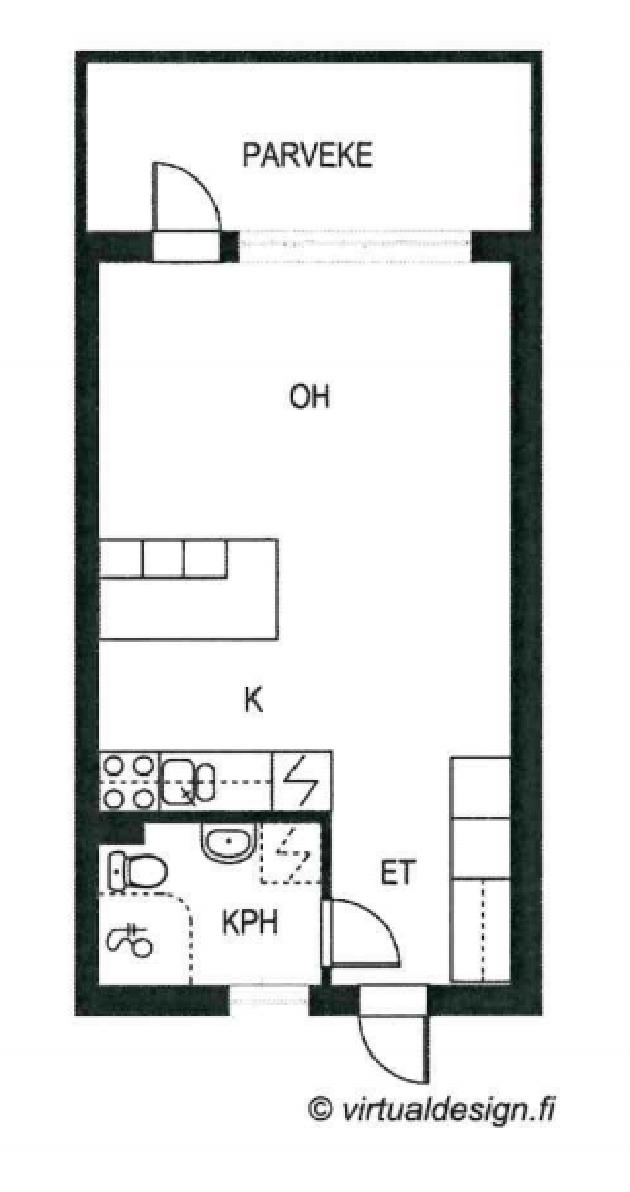door: (150, 150, 230, 276), (353, 976, 439, 1086), (315, 899, 408, 971)
window: (233, 230, 478, 267), (227, 980, 311, 1010)
zone: (103, 268, 506, 986), (90, 63, 527, 228), (101, 824, 322, 982)
